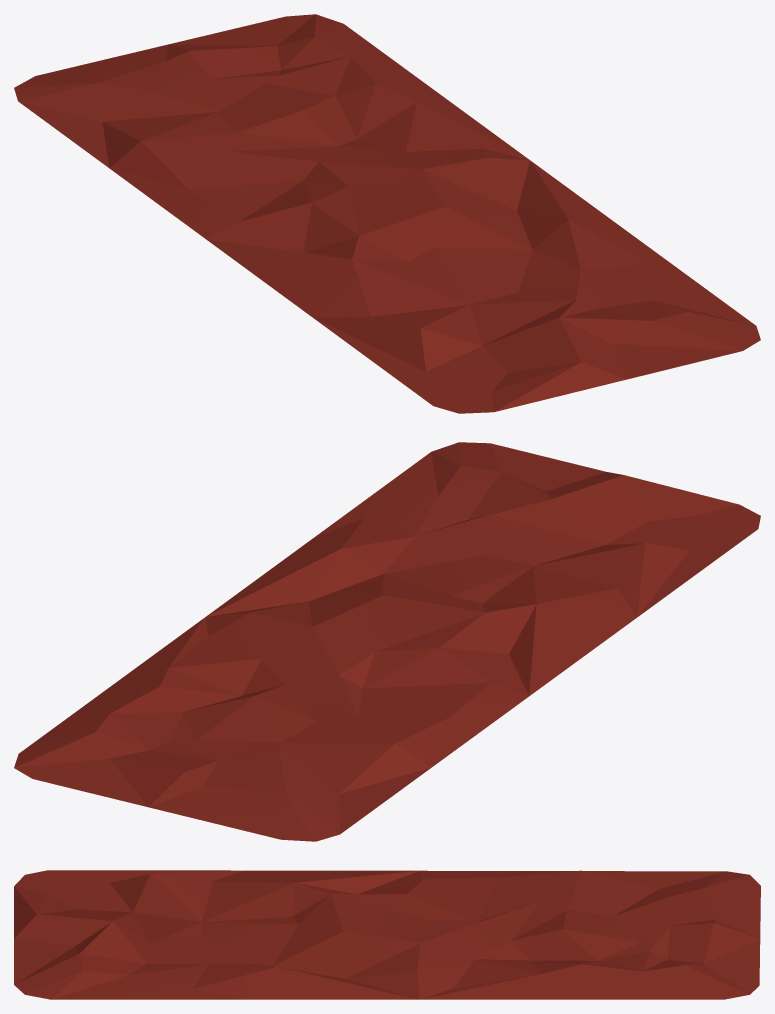
Rendered from SM_Prop_Kitchen_Counter_Food_Insert_Large_07.obj.
The picture shows the model from 3 angles, top to bottom: view 1: azimuth 30°, elevation 25°; view 2: azimuth 150°, elevation 25°; view 3: azimuth 270°, elevation 25°; orthographic projection. The views are drawn at different scales.
Visible parts, largest first — view 1: SM_Prop_Kitchen_Counter_Food_Insert_Large_07_0; view 2: SM_Prop_Kitchen_Counter_Food_Insert_Large_07_0; view 3: SM_Prop_Kitchen_Counter_Food_Insert_Large_07_0.
Part boxes in pixels (<box>): SM_Prop_Kitchen_Counter_Food_Insert_Large_07_0: <box>14,14,760,413</box>; SM_Prop_Kitchen_Counter_Food_Insert_Large_07_0: <box>14,442,760,841</box>; SM_Prop_Kitchen_Counter_Food_Insert_Large_07_0: <box>14,870,760,999</box>.
Bounding box in the file's own units: 0.2884 × 0.0197 × 0.7048.
Materials: 1 (1 with a texture image).
